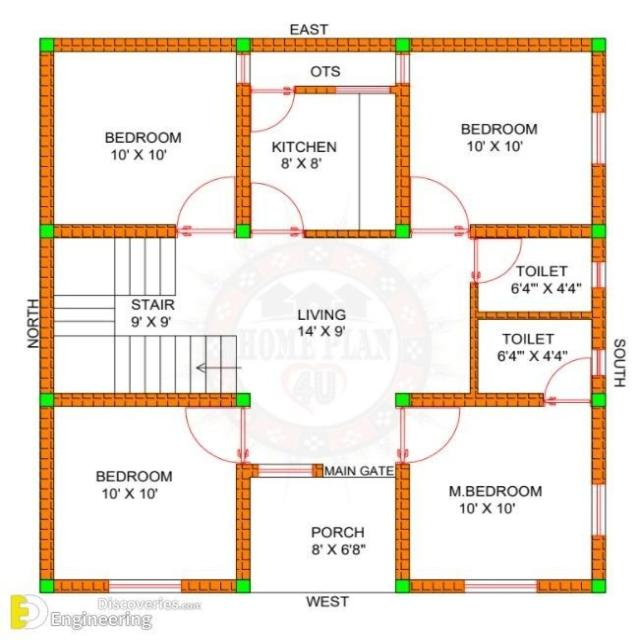column: (388, 221, 417, 244), (33, 35, 61, 57), (390, 34, 415, 58), (35, 389, 61, 412), (588, 33, 611, 58), (586, 220, 612, 242), (233, 34, 255, 58), (35, 220, 60, 241), (232, 390, 255, 412), (391, 576, 416, 596), (393, 390, 415, 412), (587, 575, 609, 597), (35, 574, 58, 595), (586, 390, 610, 409), (230, 223, 253, 241), (232, 576, 253, 595)
